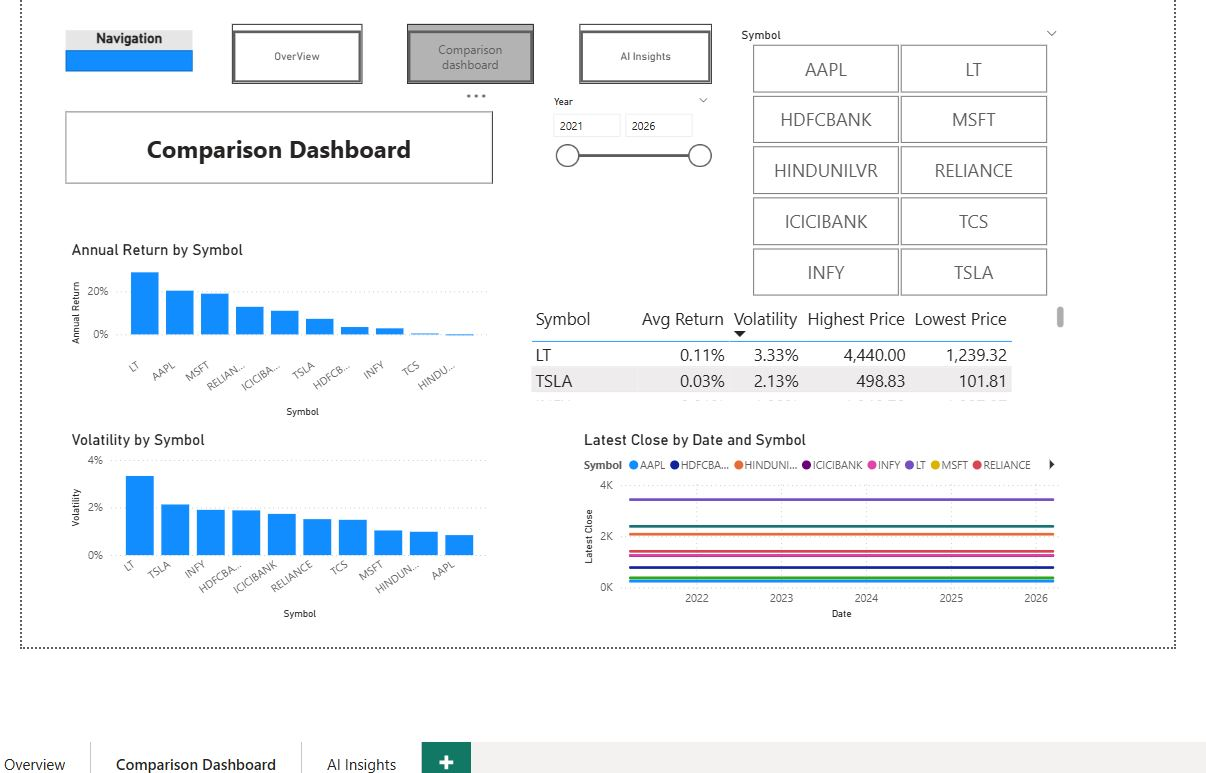

The dashboard page shown, as its layout file describes it:
{"tool":"powerbi","page":{"name":"Comparison Dashboard","canvas":[1280,720],"ordinal":1},"visuals":[{"type":"lineChart","fields":{"Category":["Combine_data.Date"],"Series":["Combine_data.Symbol"],"Y":["Combine_data.Latest Close"]},"box":[618.9,479,544.1,214.7],"z":0},{"type":"clusteredColumnChart","fields":{"Category":["Combine_data.Symbol"],"Y":["Combine_data.Annual Return"]},"box":[49.5,267.8,472.9,201.5],"z":1000},{"type":"clusteredColumnChart","fields":{"Y":["Combine_data.Volatility"],"Category":["Combine_data.Symbol"]},"box":[49.5,479,472.9,214.7],"z":2000},{"type":"slicer","fields":{"Values":["Combine_data.Symbol"]},"box":[786.6,27.7,376.4,308.8],"z":3000},{"type":"slicer","fields":{"Values":["Combine_data.Year"]},"box":[577.9,102.5,196.6,125.5],"z":4000},{"type":"tableEx","fields":{"Values":["Combine_data.Symbol","Combine_data.Avg Return","Combine_data.Volatility","Combine_data.Highest Price","Combine_data.Lowest Price"]},"box":[559.8,336.6,603.2,114.6],"z":5000},{"type":"textbox","box":[48.3,125.5,474.1,79.6],"z":6000},{"type":"pageNavigator","box":[49.5,27.7,737.1,74.8],"z":7001}]}

Visuals, with their boxes on the page's 1280x720 design canvas (x1, y1, x2, y2). These are canvas units, not pixel positions in the 1206x773 screenshot, which may show the page scaled, cropped or inside an application window:
lineChart - Combine_data.Date x Combine_data.Symbol: <bbox>619, 479, 1163, 694</bbox>
clusteredColumnChart - Combine_data.Symbol x Combine_data.Annual Return: <bbox>50, 268, 522, 469</bbox>
clusteredColumnChart - Combine_data.Volatility x Combine_data.Symbol: <bbox>50, 479, 522, 694</bbox>
slicer - Combine_data.Symbol: <bbox>787, 28, 1163, 336</bbox>
slicer - Combine_data.Year: <bbox>578, 102, 774, 228</bbox>
tableEx - Combine_data.Symbol x Combine_data.Avg Return: <bbox>560, 337, 1163, 451</bbox>
textbox: <bbox>48, 126, 522, 205</bbox>
pageNavigator: <bbox>50, 28, 787, 102</bbox>
